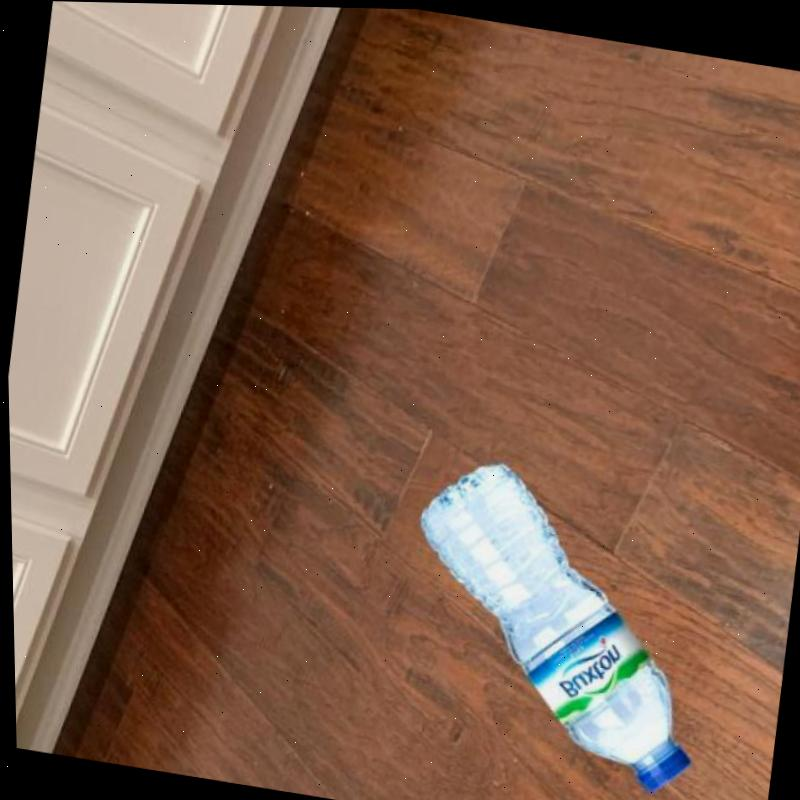botella: (385, 446, 729, 799)
